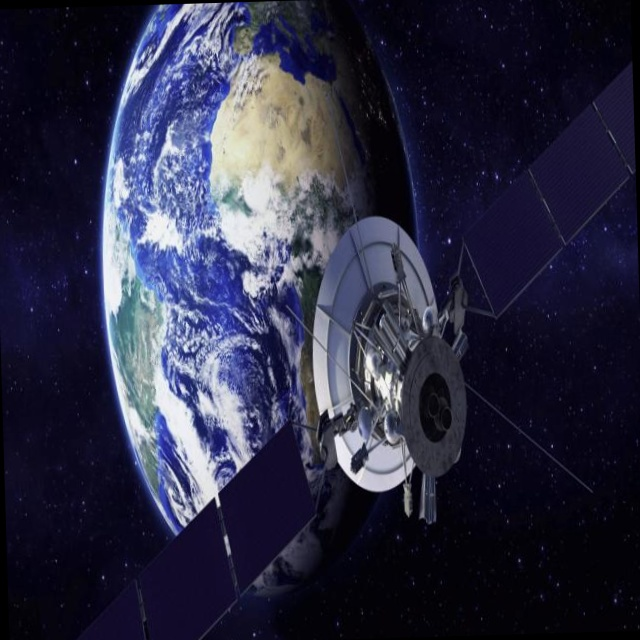medium_debris: (40, 40, 640, 640)
